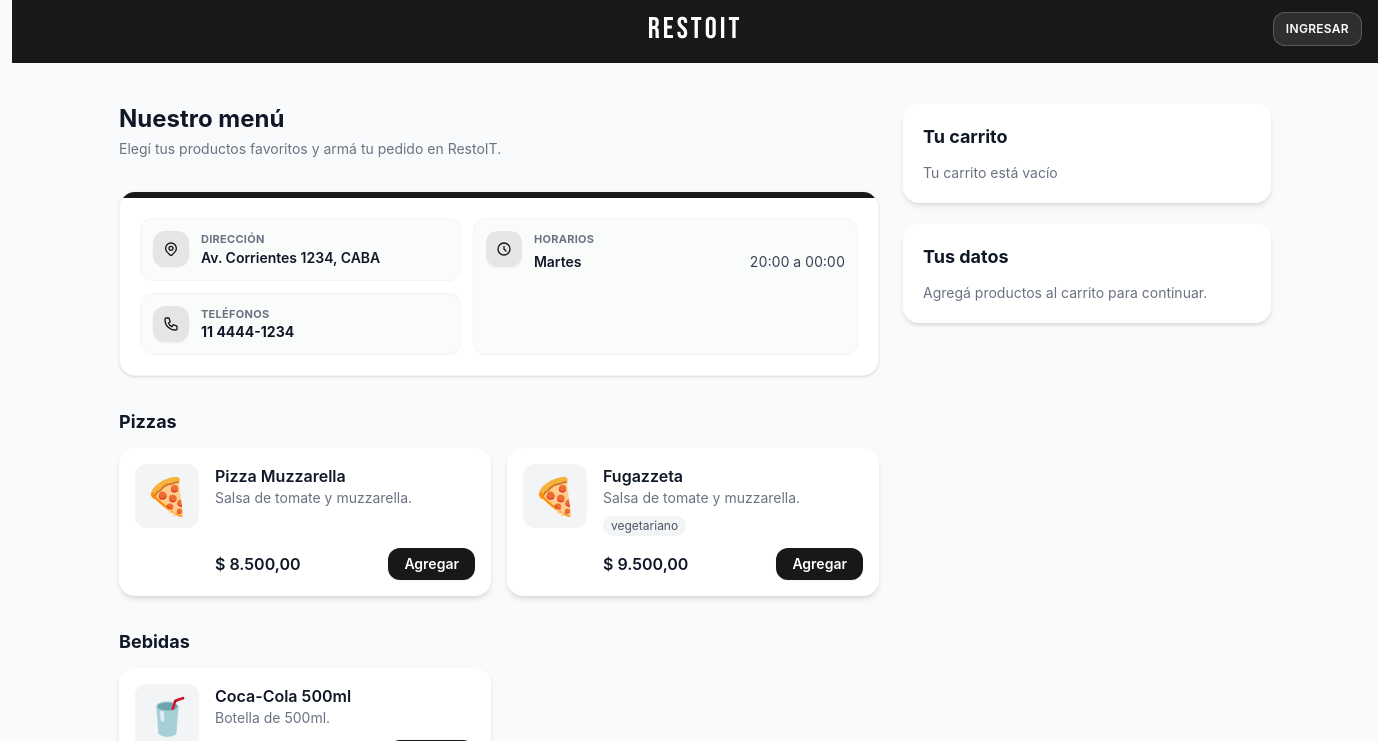
Test: MenuPage › valida los datos antes de enviar el pedido
Expected: the heading "Pizza Muzzarella" is shown, x1=215 y1=466 x2=346 y2=486
Step 1. Click the button "Agregar" next to "$ 8.500,00" → (432, 564), box x1=388 y1=548 x2=475 y2=580
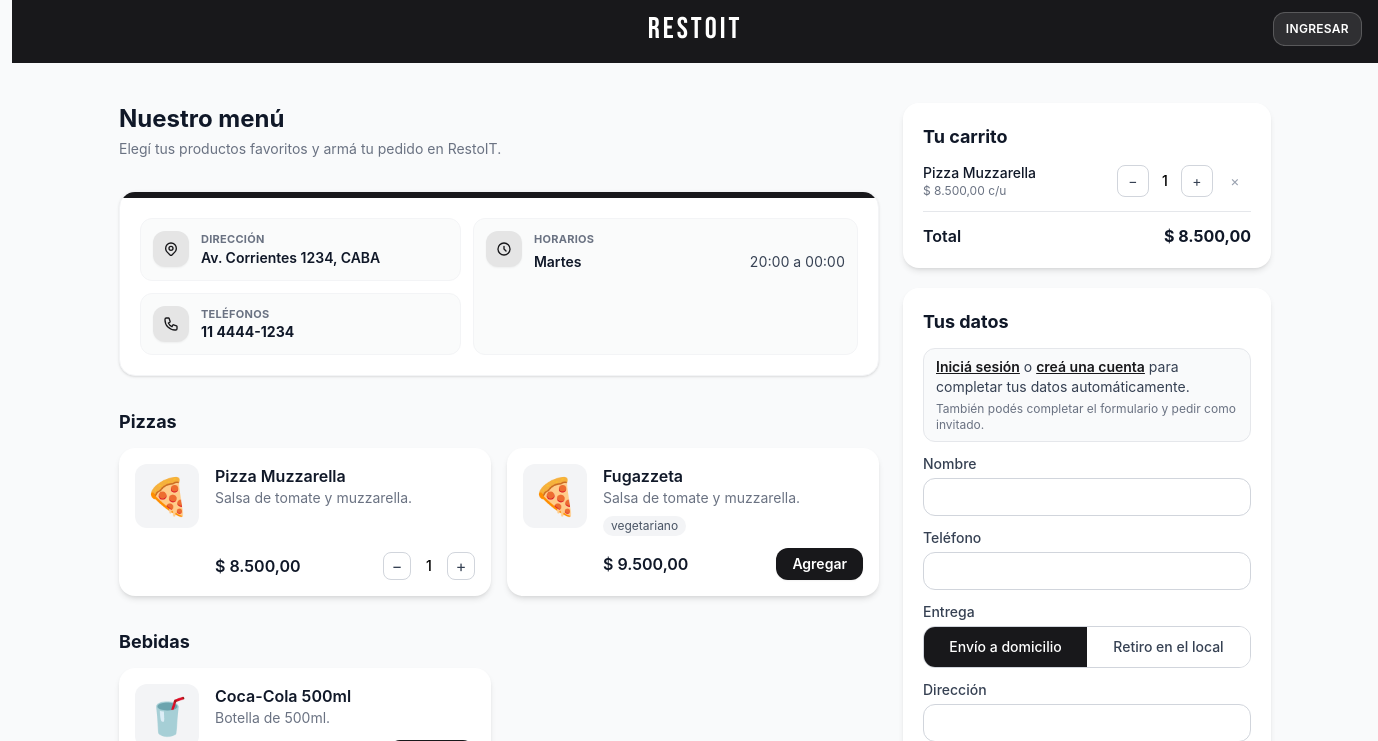
Step 2. Type "llamame" into the field labelled "Teléfono" → (1087, 571), box x1=923 y1=552 x2=1251 y2=590
(page scrolled)
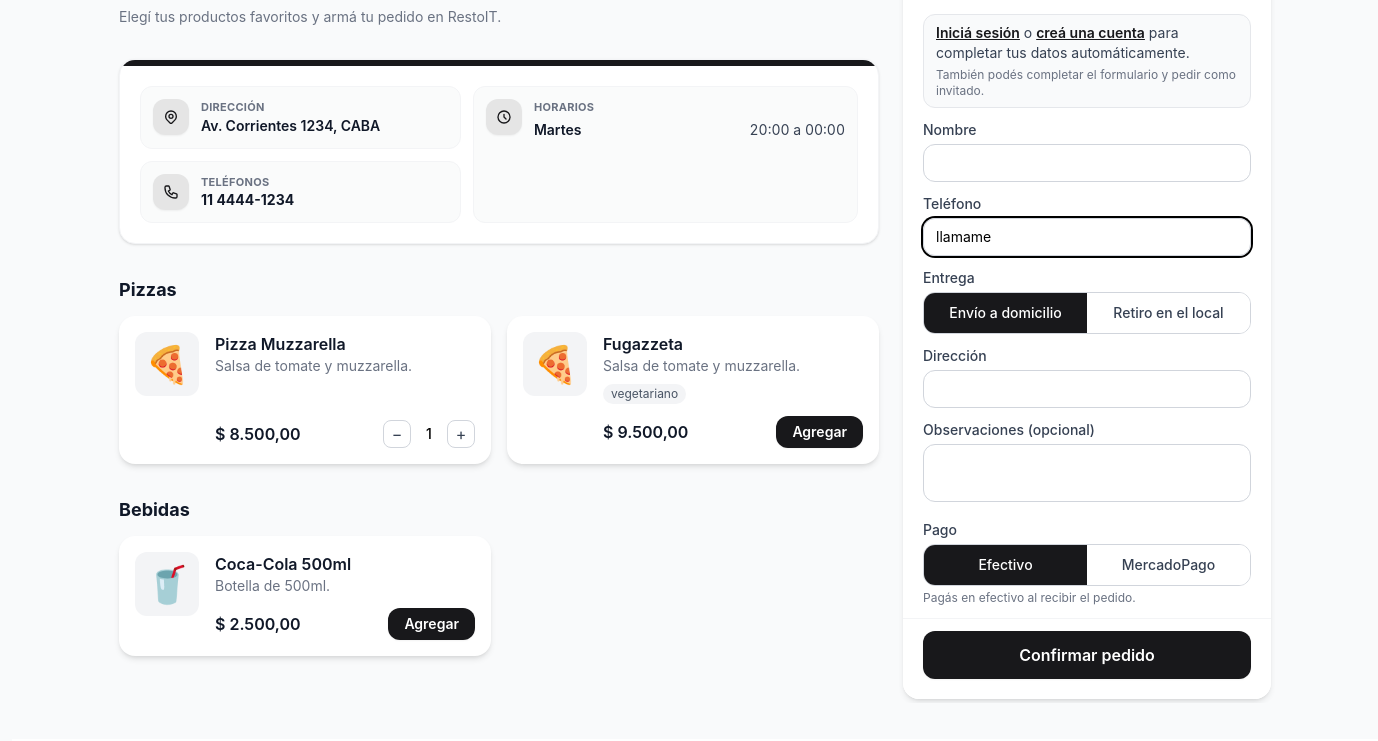
Step 3. Click the button "Confirmar pedido" → (1087, 655), box x1=923 y1=631 x2=1251 y2=679
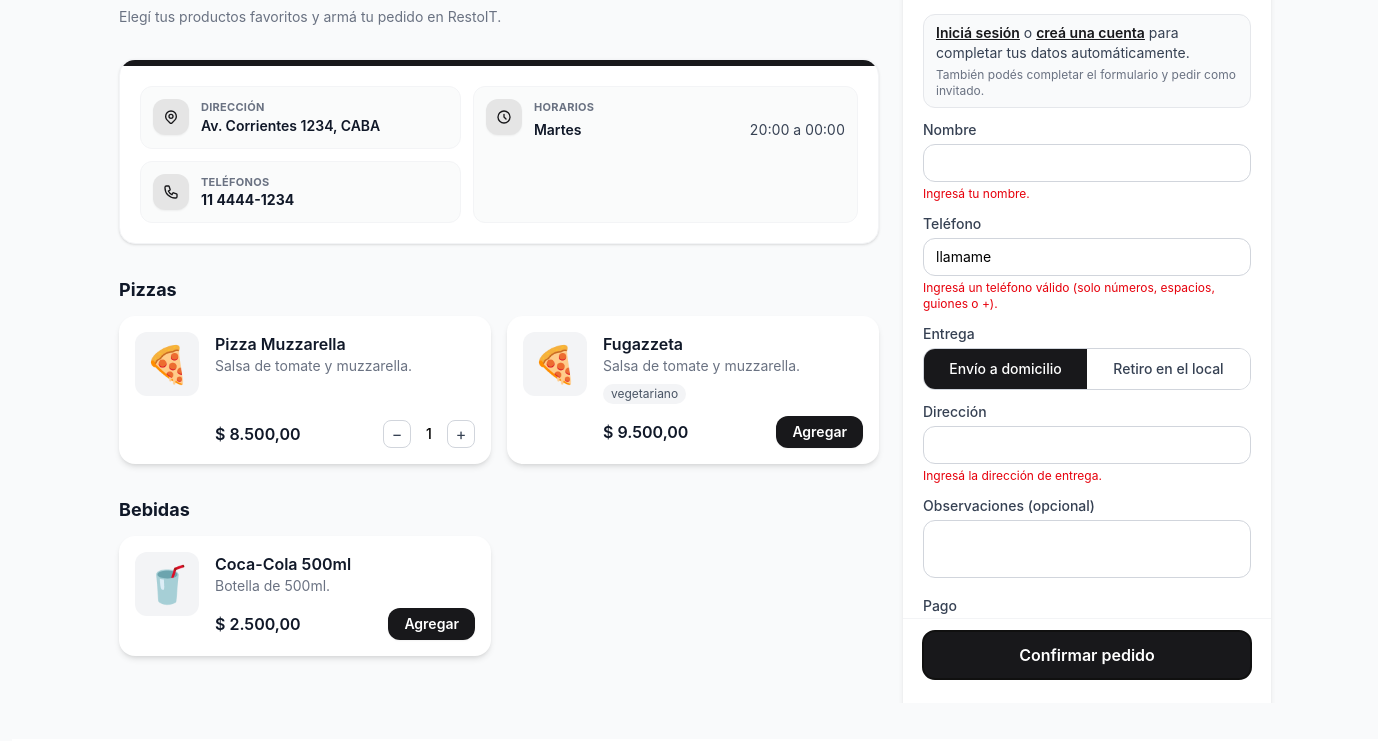
Result: the text "Ingresá tu nombre." is shown at x1=923 y1=186 x2=1030 y2=201
Result: the text "Ingresá un teléfono válido (solo números, espacios, guiones o +)." is shown at x1=923 y1=280 x2=1251 y2=312
Result: the text "Ingresá la dirección de entrega." is shown at x1=923 y1=468 x2=1102 y2=483
